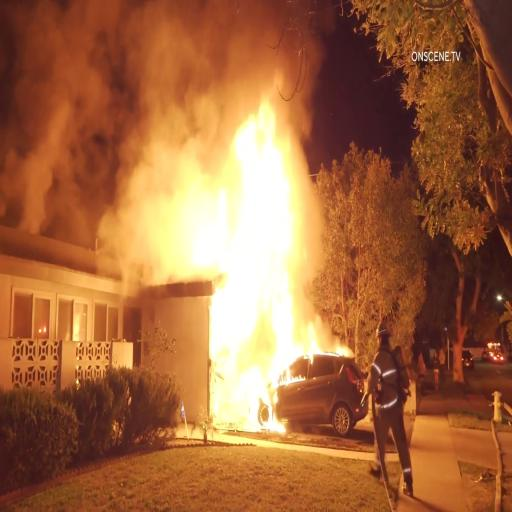fire: (236, 96, 310, 353), (172, 165, 310, 276), (220, 282, 282, 430)
smoke: (1, 2, 169, 240), (0, 0, 233, 158), (0, 0, 311, 90)
